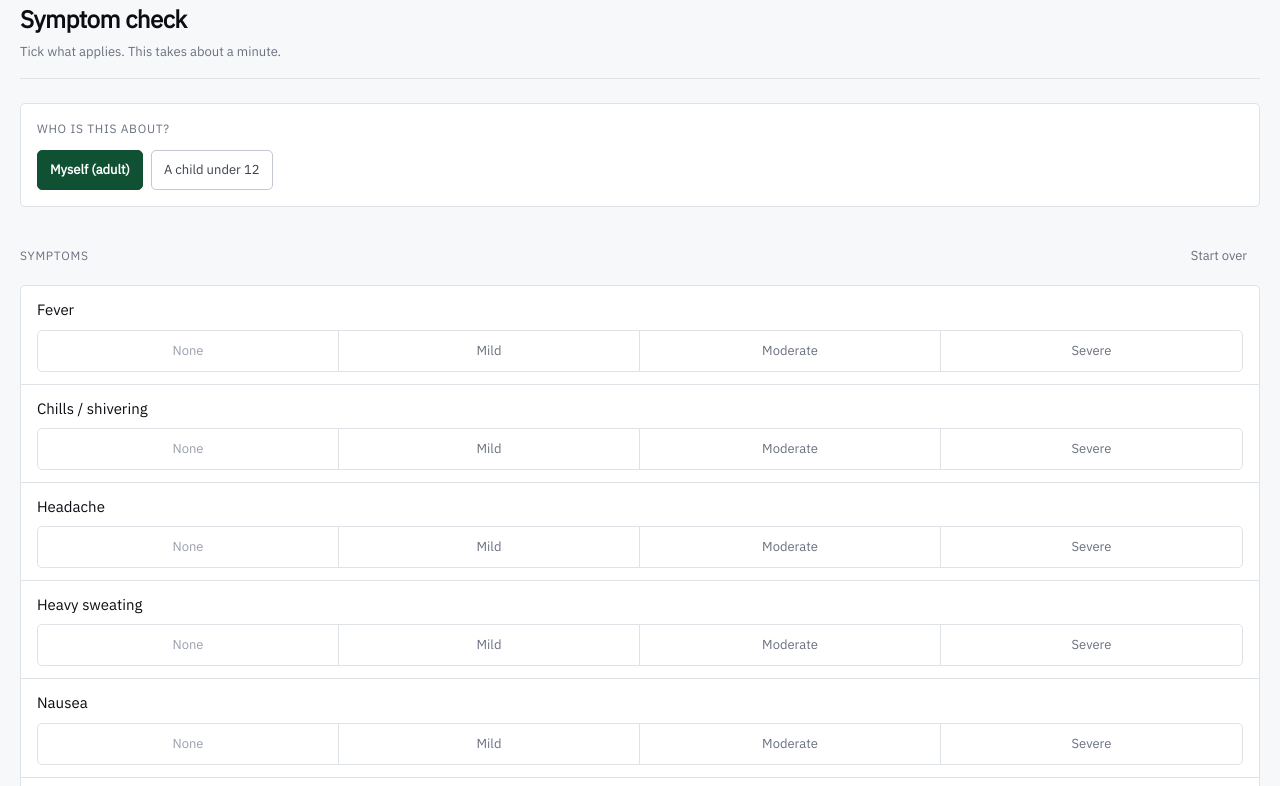
Test: Symptom check flow › does not show danger signs on a low-risk result
Note: Mild headache alone is not a malaria presentation.
Click the radio button with aria-label "Headache: Mild". click: (490, 547)
box: left=339, top=527, right=640, bottom=567
(page scrolled)
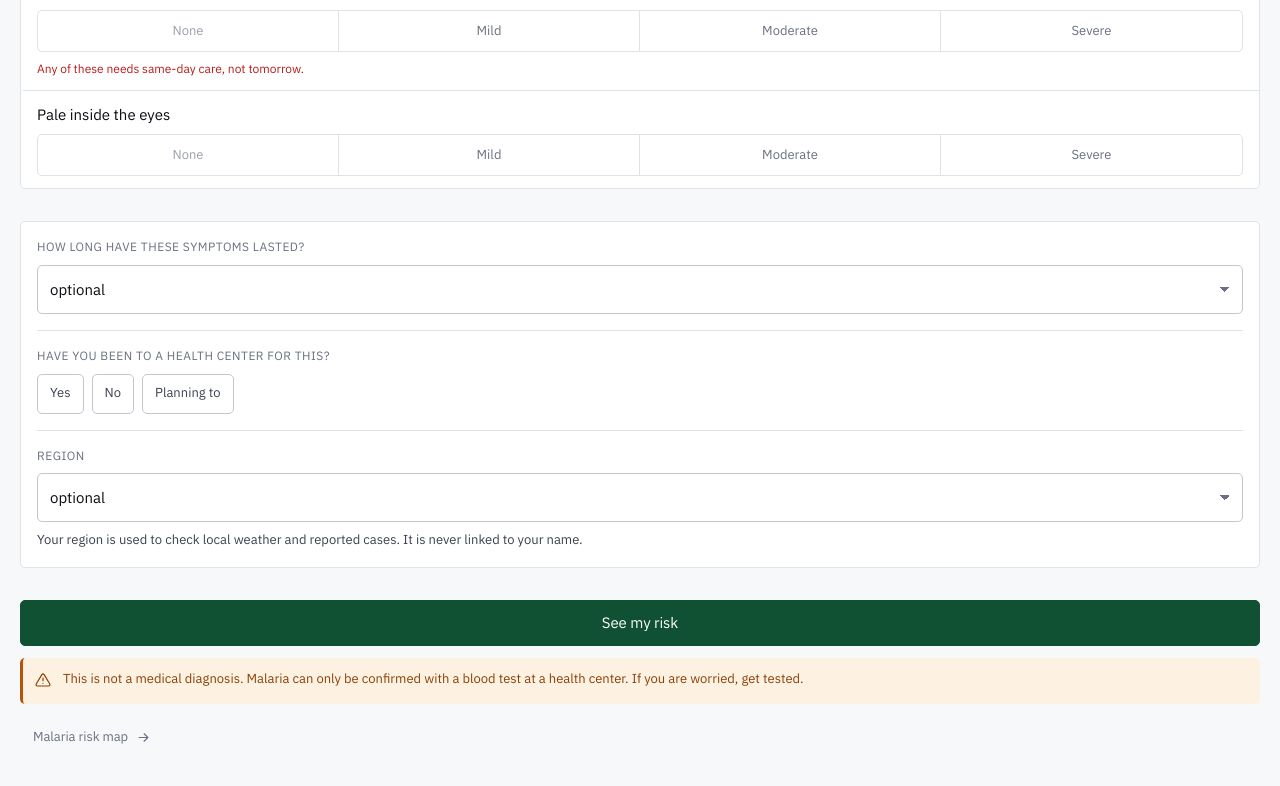
Click the button "See my risk". click: (640, 622)
box: left=20, top=600, right=1260, bottom=646
(page scrolled)
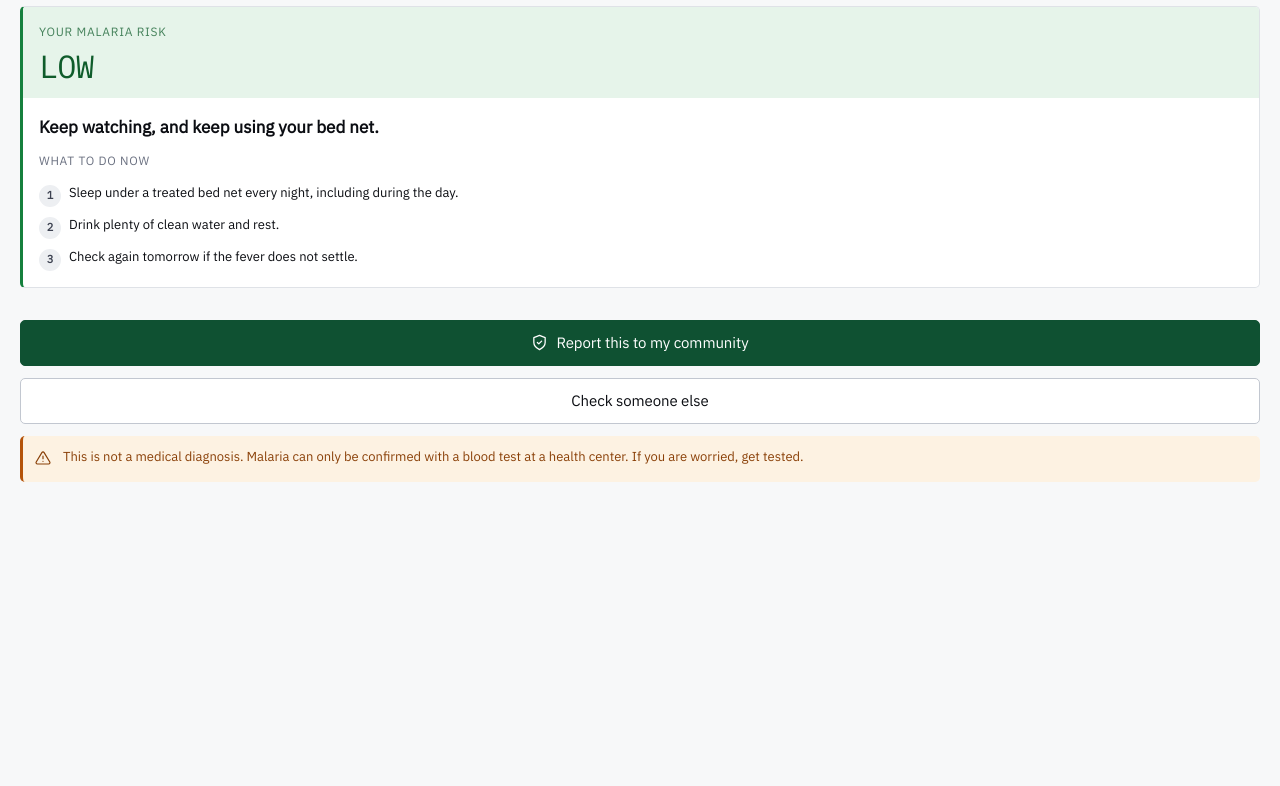
Expected: the text "Your malaria risk" is shown, left=39, top=24, right=167, bottom=39
Expected: the text "Low" is shown, left=39, top=45, right=94, bottom=87
